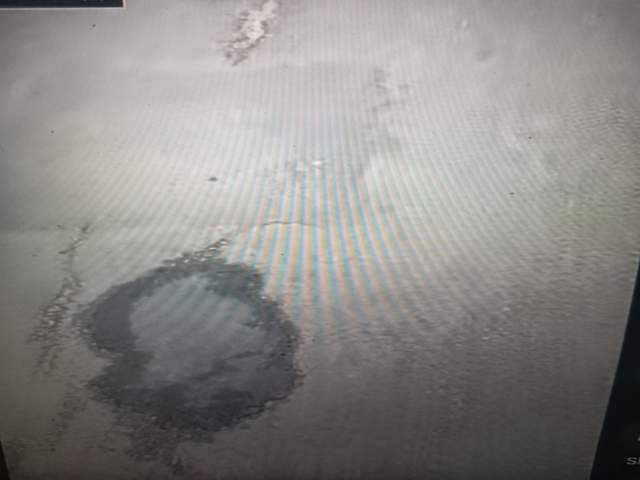pothole: (108, 403, 325, 480)
